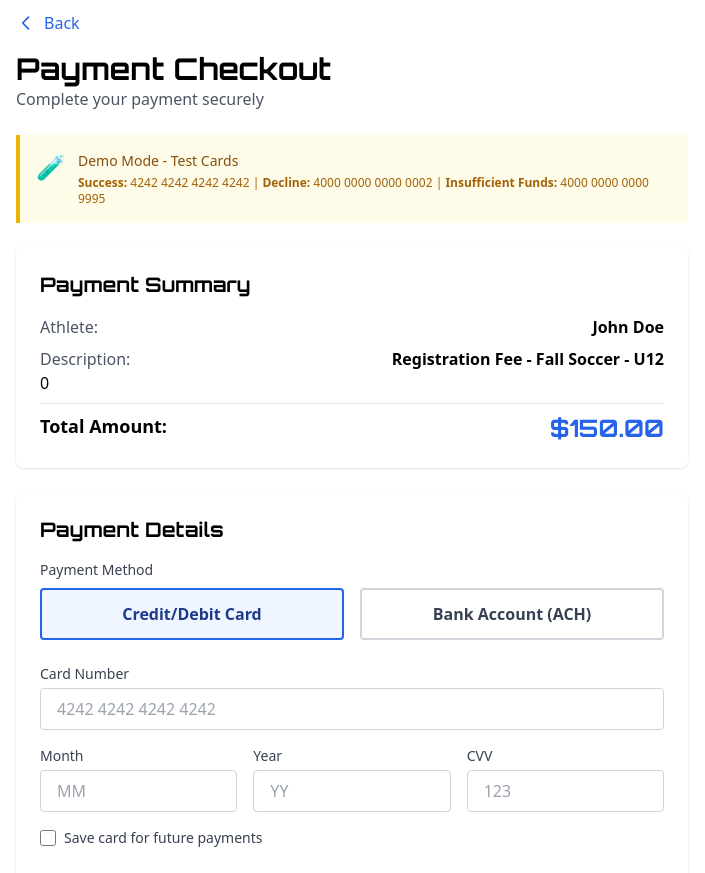
Scenario: PaymentCheckout › formats card number with spaces
Type "4242424242424242" into the field with placeholder "4242 4242 4242 4242" at coordinates (352, 709), box x1=40 y1=688 x2=664 y2=730
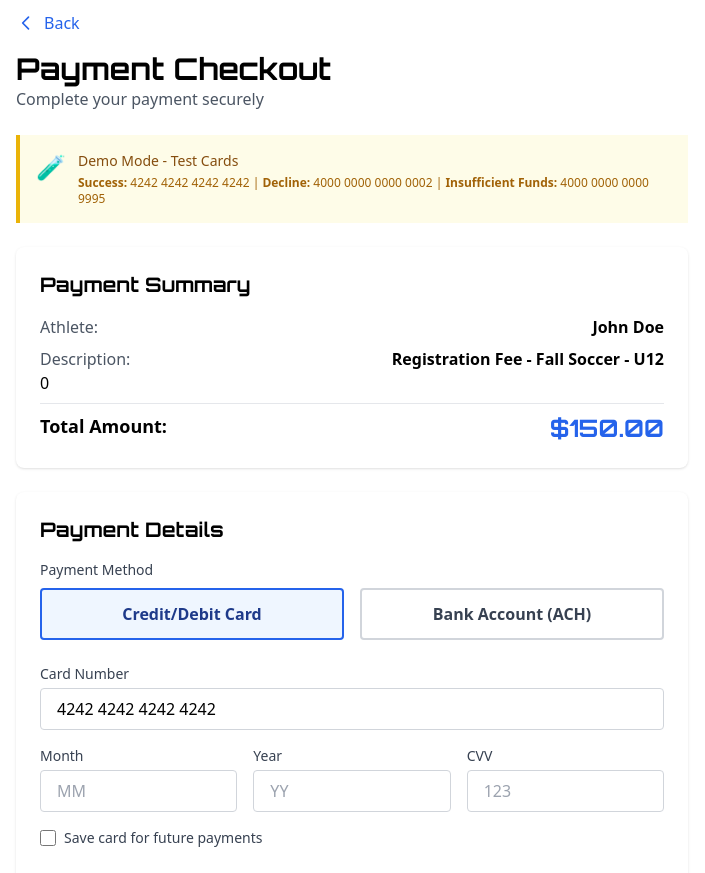
Expected: the field with placeholder "4242 4242 4242 4242" holds "4242 4242 4242 4242", x1=40 y1=688 x2=664 y2=730
